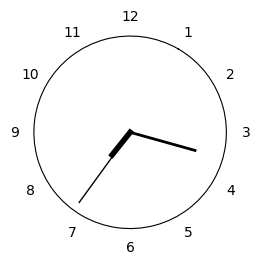12: (121, 9, 140, 23)
circle: (34, 36, 227, 229)
hours: (108, 129, 132, 159)
minutes: (133, 132, 197, 151)
seconds: (79, 135, 128, 203)
